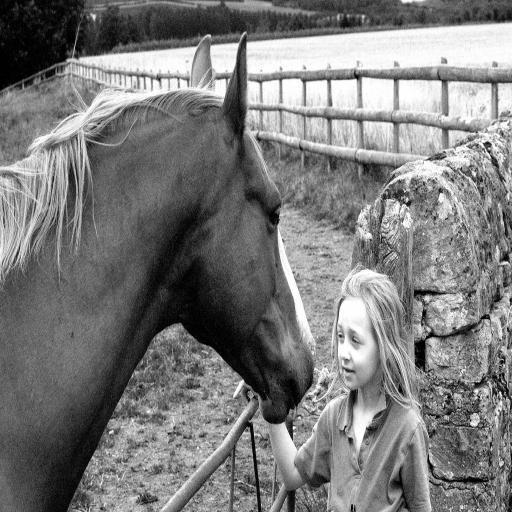horse: (0, 32, 316, 512)
